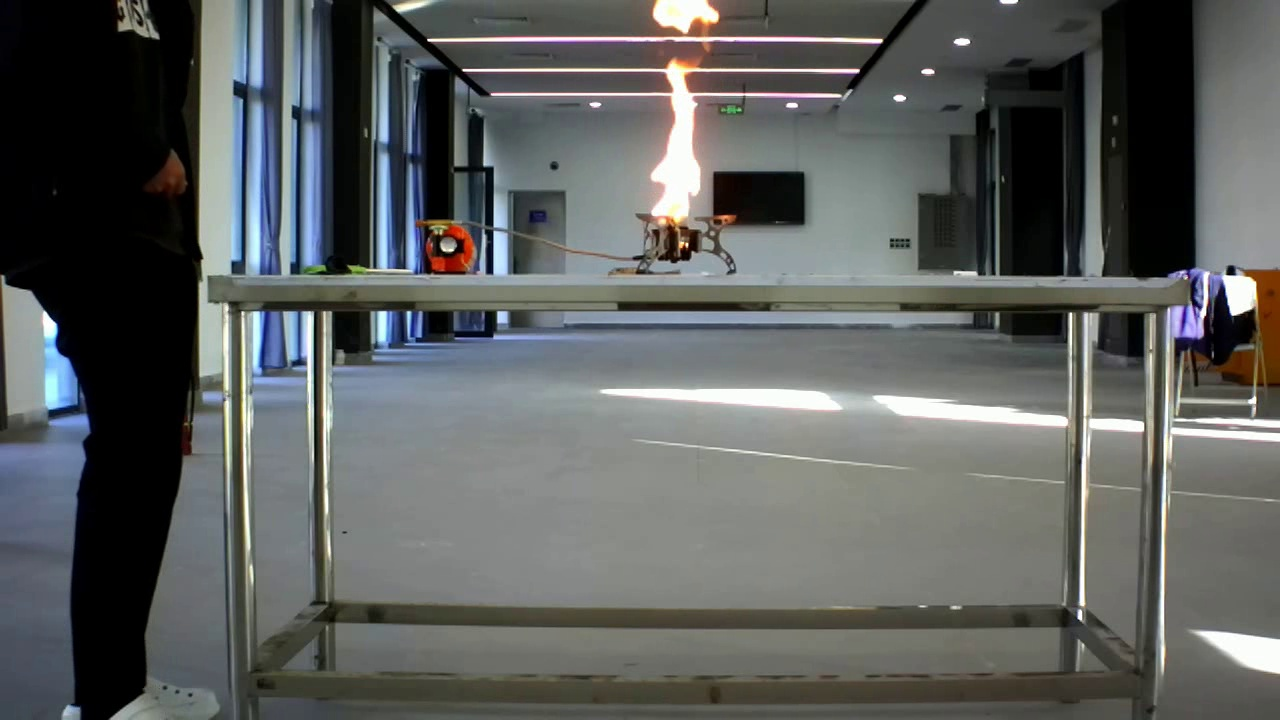Fire: (629, 41, 739, 268)
